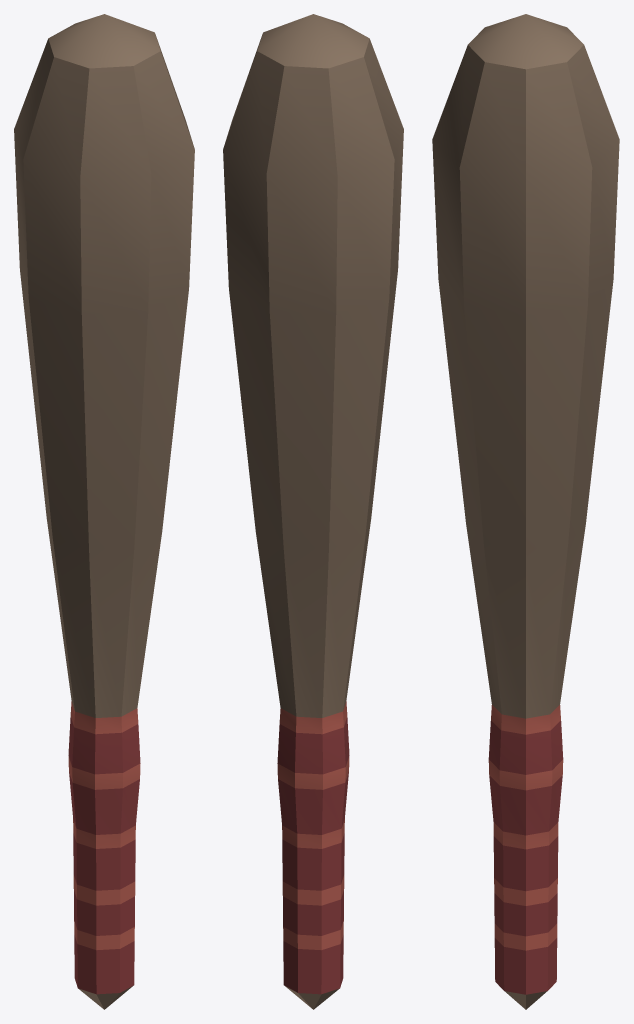
Rendered from Mace_1.fbx.
The picture shows the model from 3 angles, left to right: view 1: azimuth 30°, elevation 25°; view 2: azimuth 150°, elevation 25°; view 3: azimuth 270°, elevation 25°; orthographic projection.
Parts seen in each view (by area): view 1: pCylinder98; view 2: pCylinder98; view 3: pCylinder98.
Part boxes in pixels (bbox=[...]): pCylinder98: bbox=[14, 14, 194, 1009]; pCylinder98: bbox=[223, 14, 403, 1009]; pCylinder98: bbox=[432, 14, 619, 1009].
Size of the model in its own units: 35.55 by 209 by 35.55.
